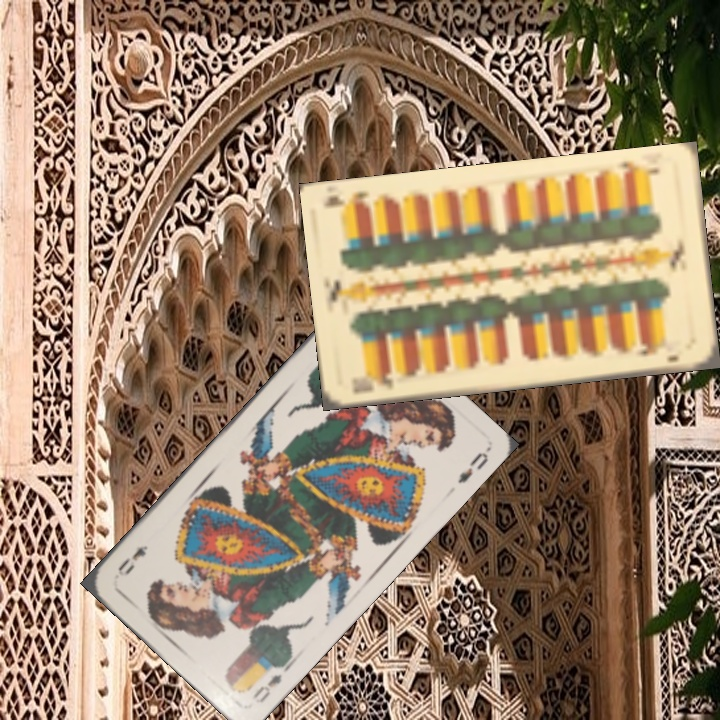E10: (349, 368, 395, 396), (613, 156, 662, 178)
EO: (248, 658, 293, 707)
